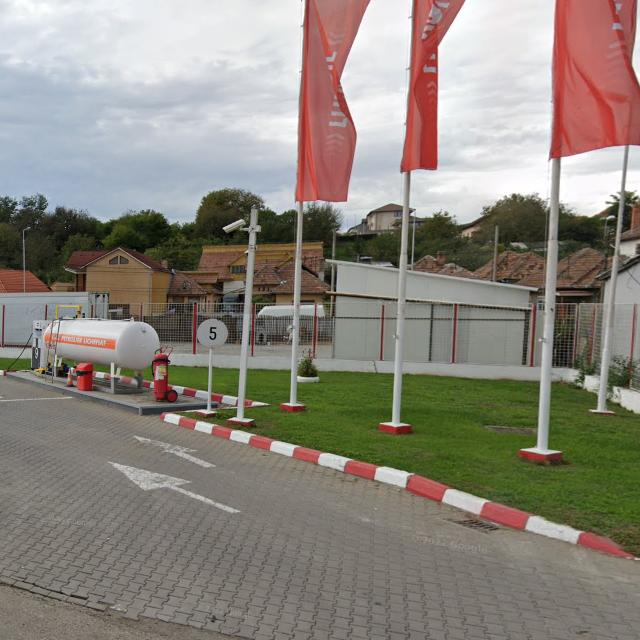forb_speed_over_5: (198, 318, 228, 348)
